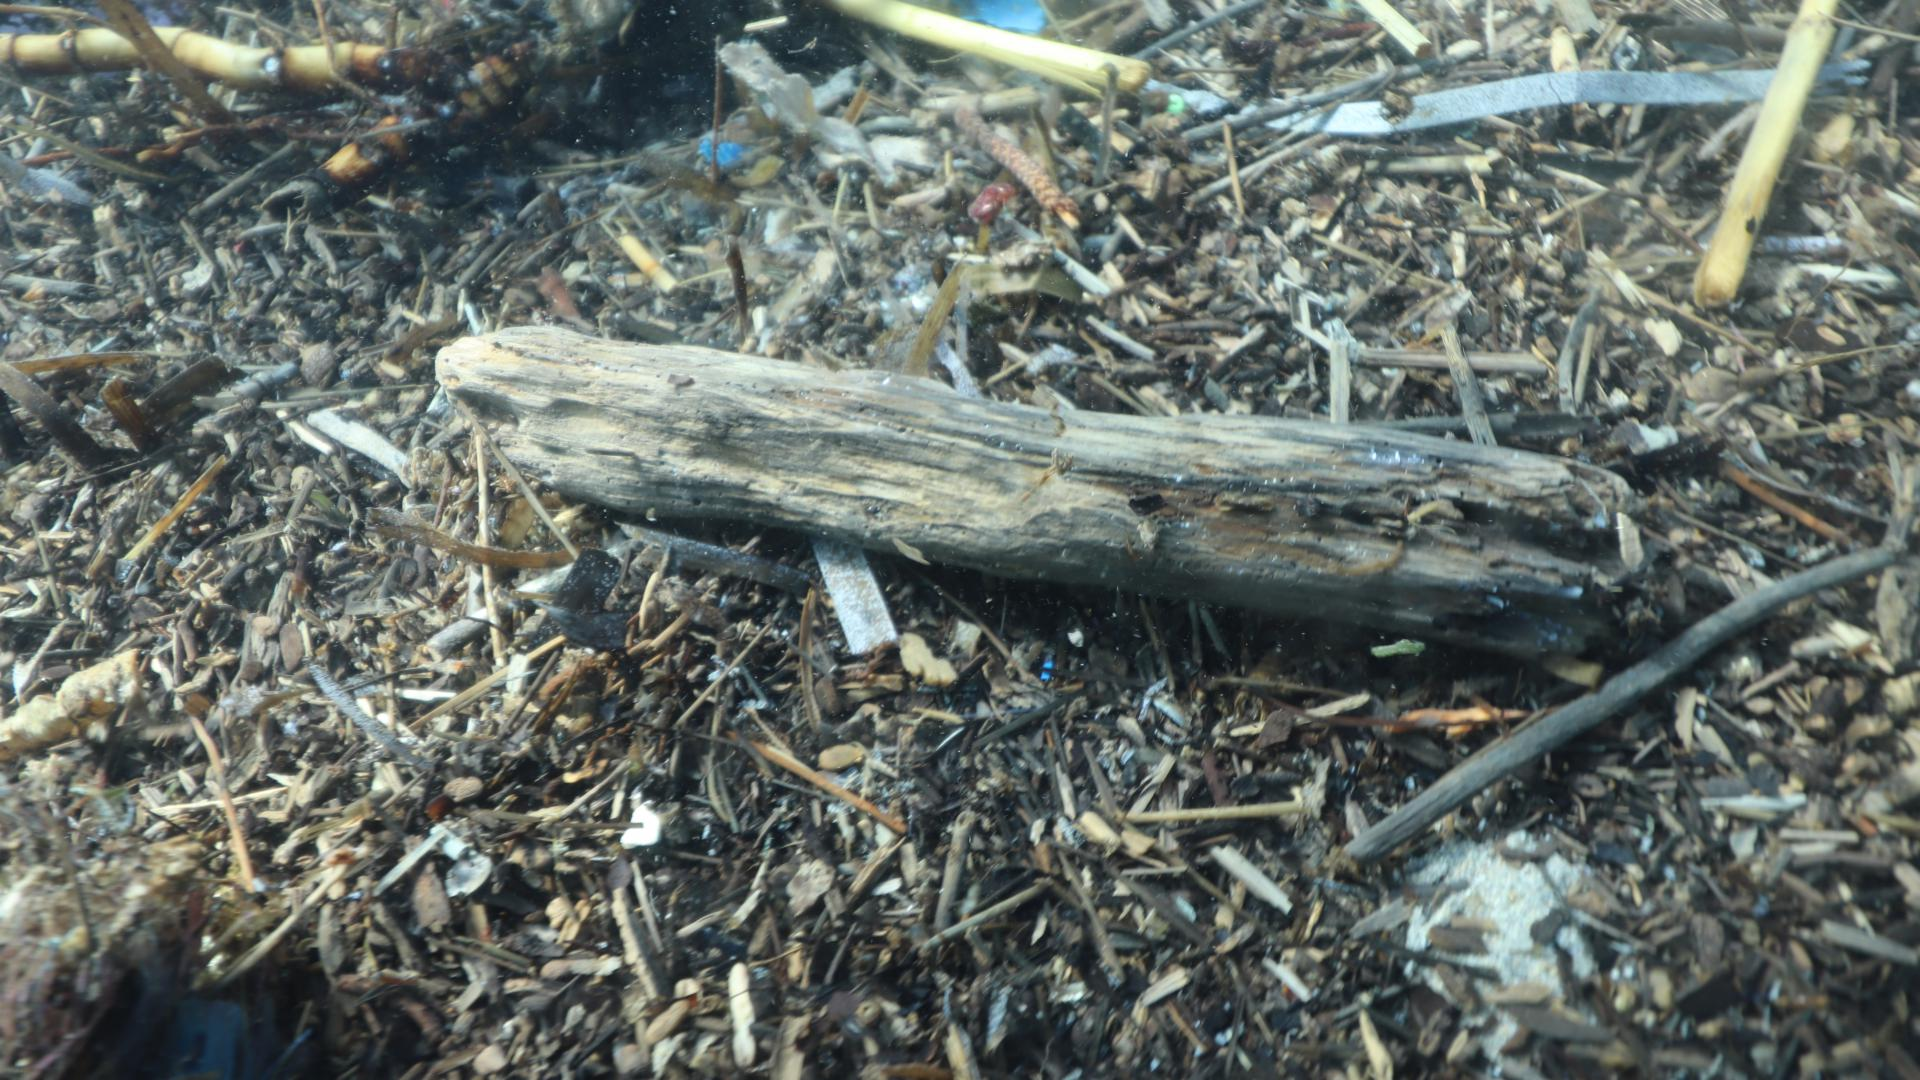wood: (435, 323, 1633, 650)
